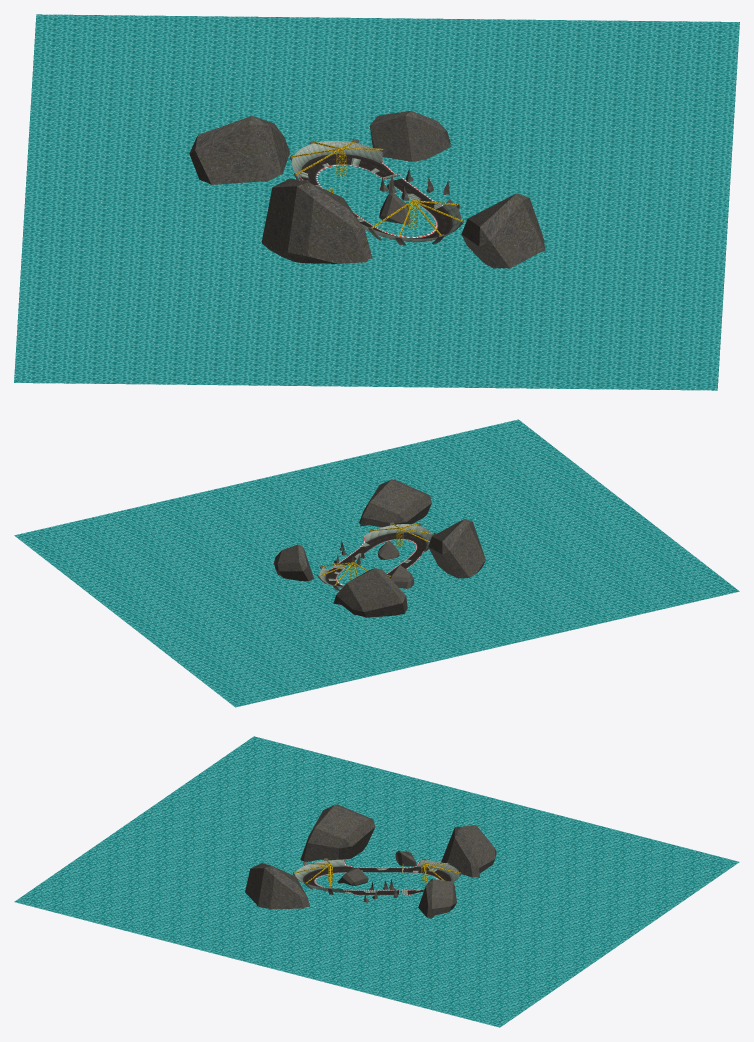
The model's file is nascar_circuit_REWORK.glb.
3 views of the same model, one above another, from view 1: azimuth 30°, elevation 25°; view 2: azimuth 150°, elevation 25°; view 3: azimuth 270°, elevation 25° (orthographic). The views are drawn at different scales.
Parts seen in each view (by area): view 1: terrain, rocks, pista, terrain.002, terrain.001; view 2: terrain, rocks, pista; view 3: terrain, rocks, pista.
Part boxes in pixels (<box>): terrain: <box>14,14,739,390</box>; rocks: <box>189,110,545,268</box>; pista: <box>292,141,460,242</box>; terrain.002: <box>368,200,464,245</box>; terrain.001: <box>290,139,385,179</box>; terrain: <box>14,419,739,707</box>; rocks: <box>273,479,485,617</box>; pista: <box>319,524,431,588</box>; terrain: <box>14,736,739,1027</box>; rocks: <box>245,804,496,918</box>; pista: <box>295,859,459,895</box>.
Size of the model in its own units: 1717 by 226 by 1807.
Materials: 29 (29 with a texture image).
